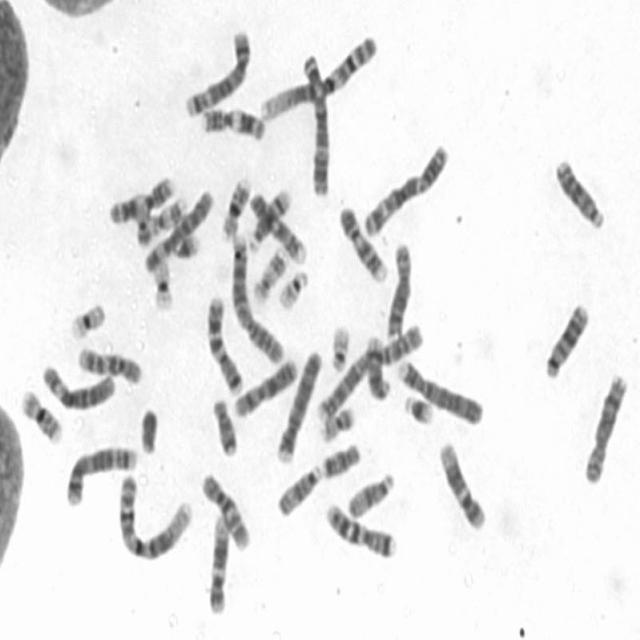A1: (256, 31, 378, 124), (115, 469, 194, 563)
A2: (313, 320, 424, 424), (228, 232, 285, 364)
A3: (361, 139, 451, 238), (300, 48, 332, 196)
B4: (395, 357, 484, 428), (274, 346, 324, 465)
B5: (182, 25, 252, 119), (63, 442, 139, 507)
C10: (198, 468, 250, 552), (74, 344, 144, 386)
C11: (106, 170, 175, 226), (198, 104, 267, 141)
C12: (436, 437, 487, 532), (206, 512, 230, 616)
C6: (141, 186, 215, 274), (38, 361, 117, 412)
C7: (323, 499, 398, 559), (204, 291, 244, 395)
C8: (580, 370, 630, 486), (383, 239, 414, 341)
C9: (248, 188, 308, 265), (337, 202, 388, 285)
D13: (552, 153, 605, 232), (542, 298, 590, 381)
D14: (246, 186, 292, 254), (363, 332, 392, 402)
D15: (274, 460, 322, 520), (344, 468, 396, 520)
E16: (18, 384, 64, 445), (218, 173, 253, 242)
E17: (250, 244, 288, 305), (148, 193, 188, 239)
E18: (210, 392, 239, 458), (320, 439, 361, 480)
F19: (66, 299, 108, 340), (148, 255, 175, 314)
F20: (318, 402, 356, 444), (131, 192, 154, 248)
G21: (401, 390, 435, 426), (171, 229, 201, 260)
G22: (276, 266, 310, 311), (328, 320, 352, 374)
X: (230, 355, 298, 419)
Y: (138, 404, 159, 456)
